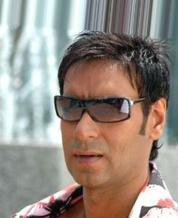face: (61, 95, 124, 167)
